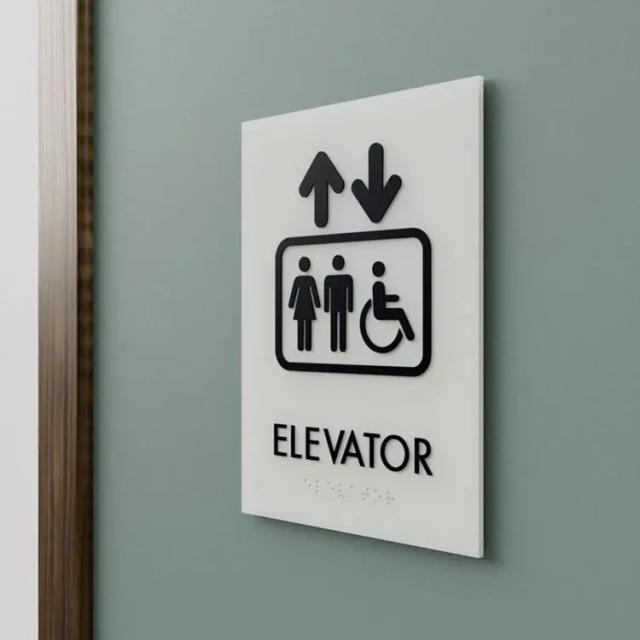lift_icon: (270, 142, 440, 388)
